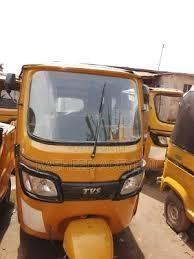keke: (14, 59, 148, 258)
